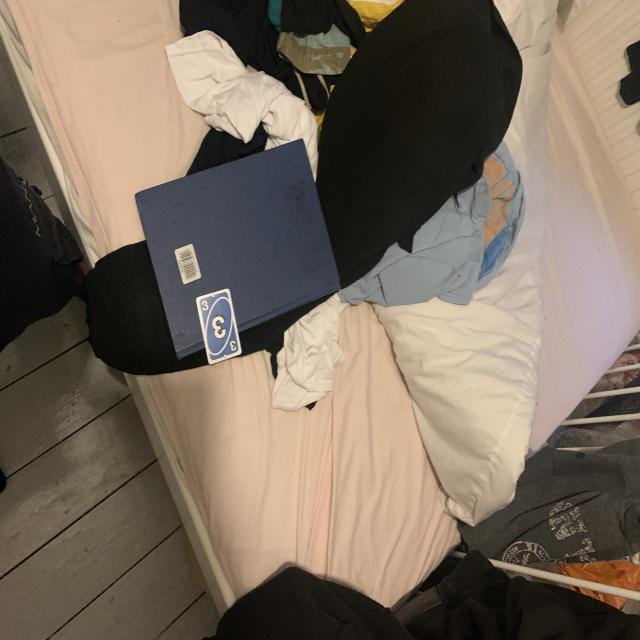lblue-3: (199, 298, 210, 312)
